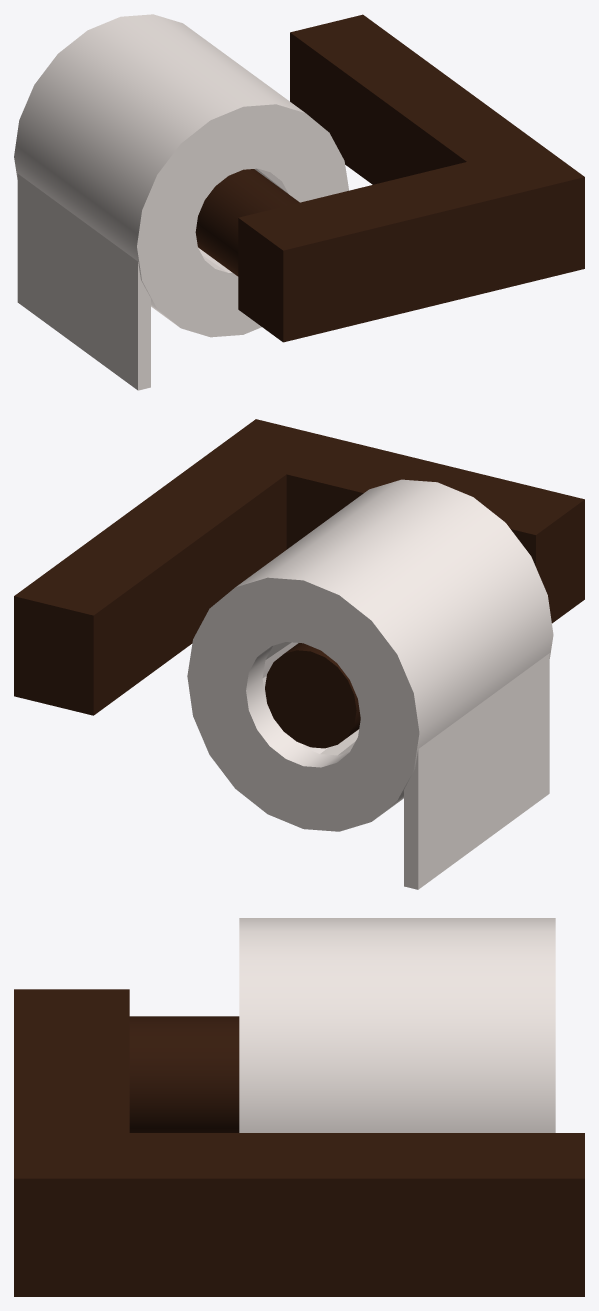
Rendered from wc papier model.fbx.
The picture shows the model from 3 angles, top to bottom: view 1: azimuth 30°, elevation 25°; view 2: azimuth 150°, elevation 25°; view 3: azimuth 270°, elevation 25°; orthographic projection. The views are drawn at different scales.
Parts seen in each view (by area): view 1: pCylinder3; view 2: pCylinder3; view 3: pCylinder3.
Boxes of the visible parts, x1,y1,x2,y2 form: pCylinder3: (14,14,584,390); pCylinder3: (14,419,584,889); pCylinder3: (14,918,584,1296).
Size of the model in its own units: 27.96 by 19.23 by 29.81.
Materials: 1 (1 with a texture image).
